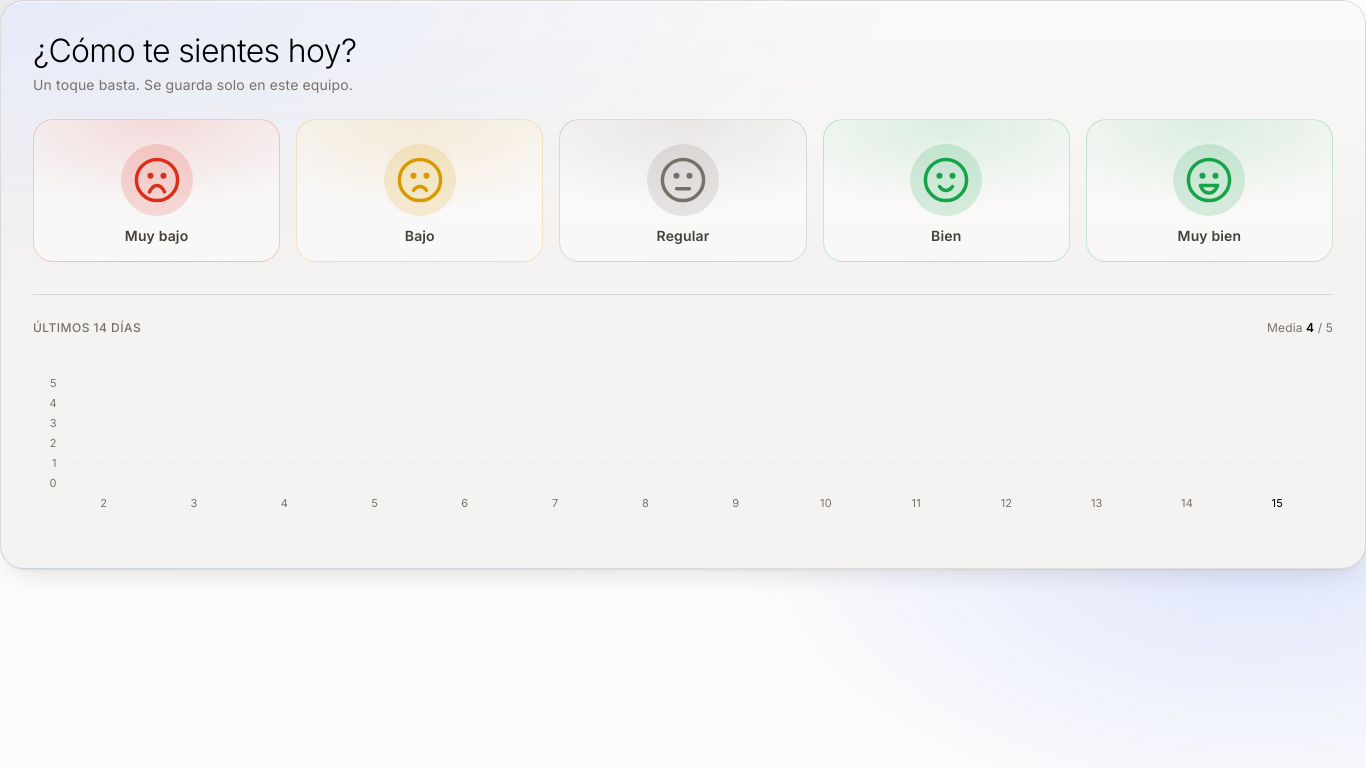
Scenario: AnimoDiario › carga la serie, permite elegir un nivel y muestra la respuesta privada
Check: the picture named "Ánimo de los últimos 14 días, media 4" is shown, box [33, 353, 1333, 536]
Click the button "Bajo": {"x": 420, "y": 190} [296, 119, 543, 262]
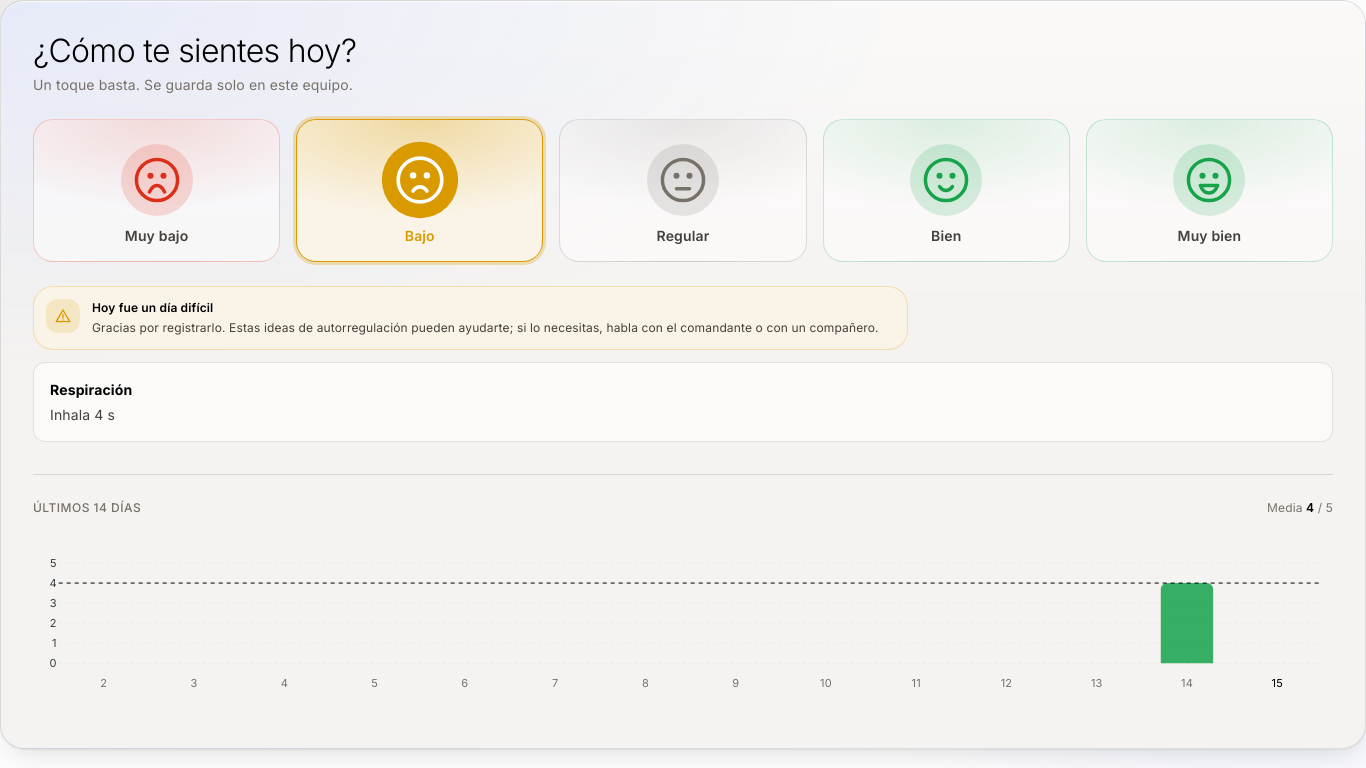
Check: the text "Respiración" is shown, box [50, 381, 132, 398]
